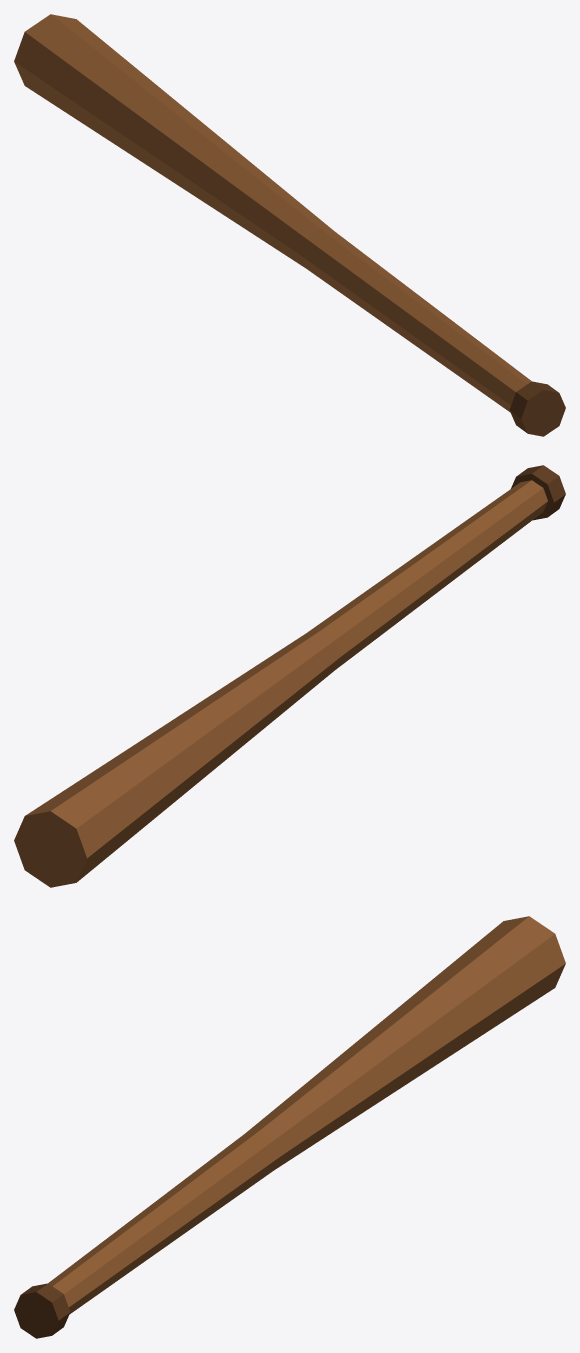
The model's file is wpn_bat.glb.
3 renders of one model, top to bottom at view 1: azimuth 30°, elevation 25°; view 2: azimuth 150°, elevation 25°; view 3: azimuth 330°, elevation 25°, orthographic.
Parts seen in each view (by area): view 1: wpn_bat__body; view 2: wpn_bat__body; view 3: wpn_bat__body.
Boxes of the visible parts, box(x1,y1,x2,y2) form: wpn_bat__body: box(14, 14, 565, 436); wpn_bat__body: box(14, 465, 565, 887); wpn_bat__body: box(14, 916, 565, 1338).
Size of the model in its own units: 0.072 by 0.072 by 0.84.
